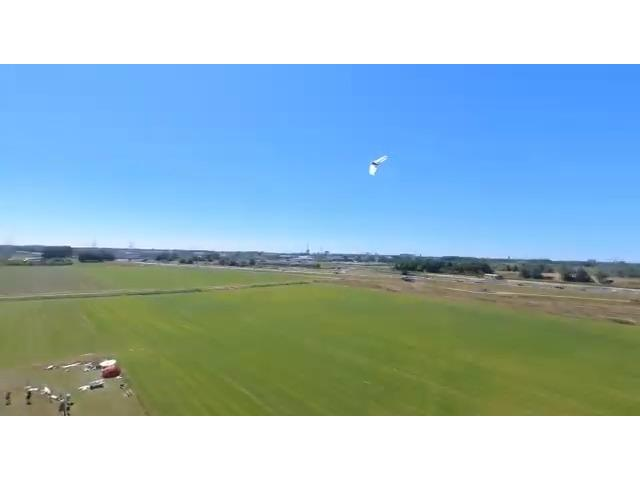Anti-Drone: (360, 147, 400, 186)
